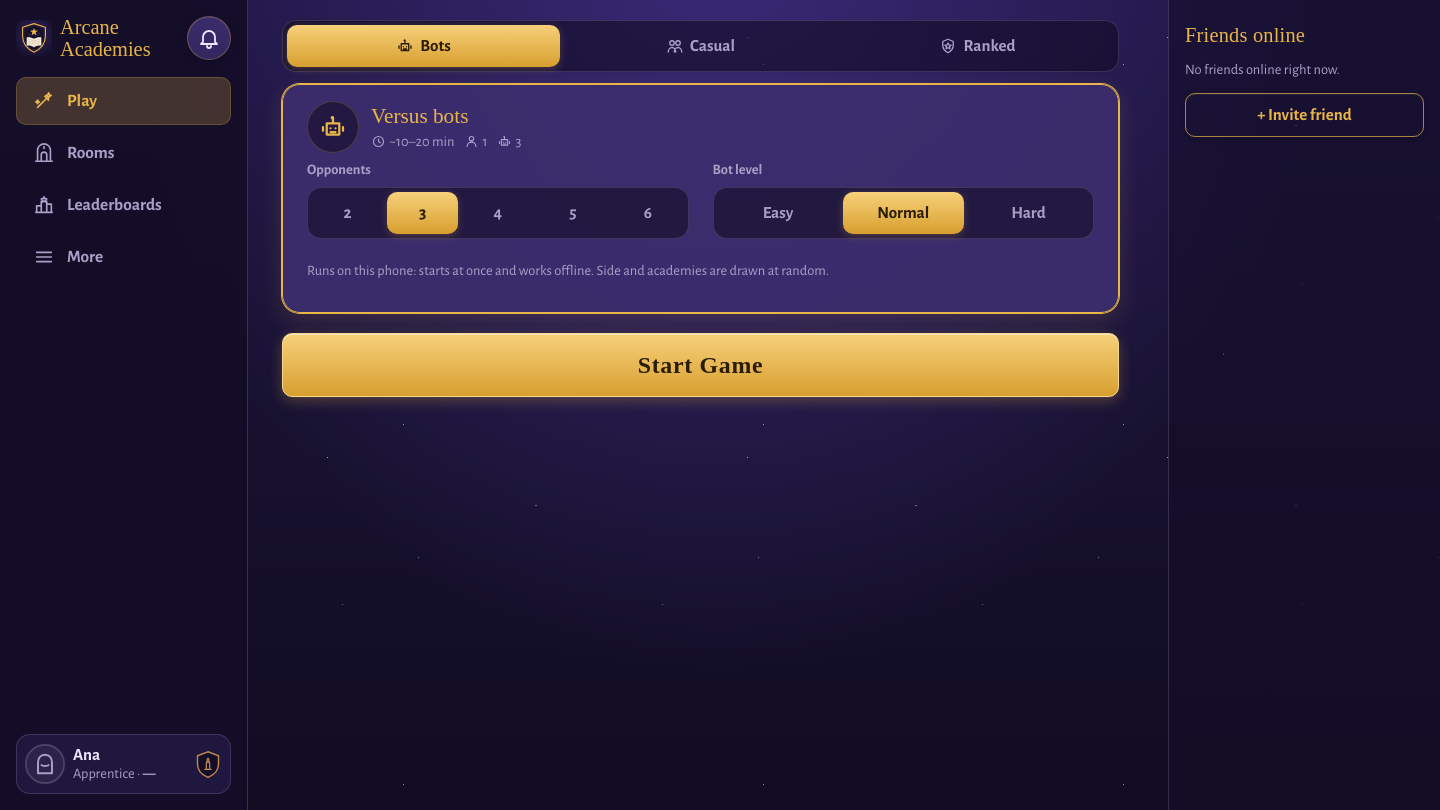
Scenario: notifications switch › explains that iPhone needs the Home Screen app
The image size is (1440, 810).
Click the button "More".
click(124, 257)  # box [16,233,231,281]
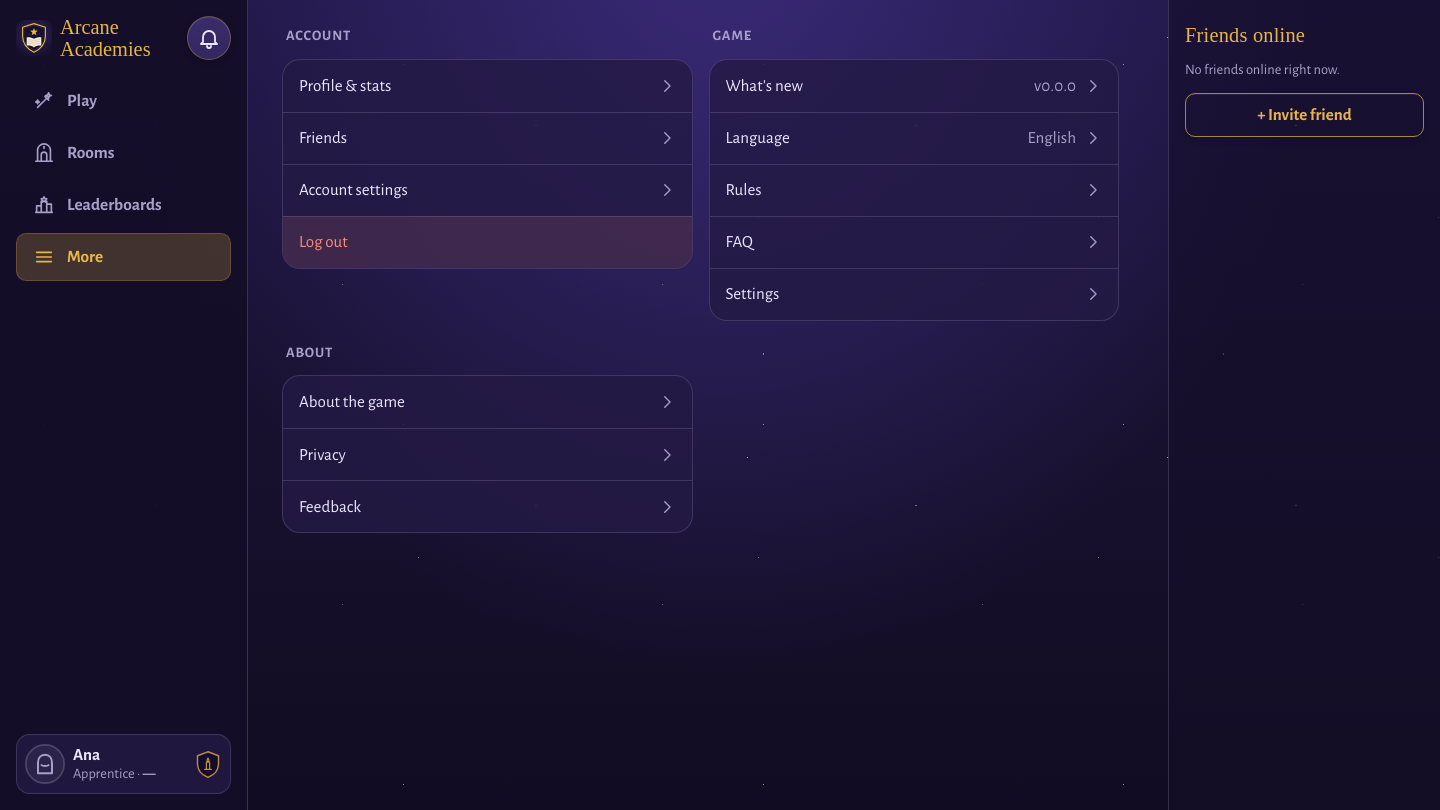
Click the button "Friends".
click(323, 138)  # box [283,112,692,164]
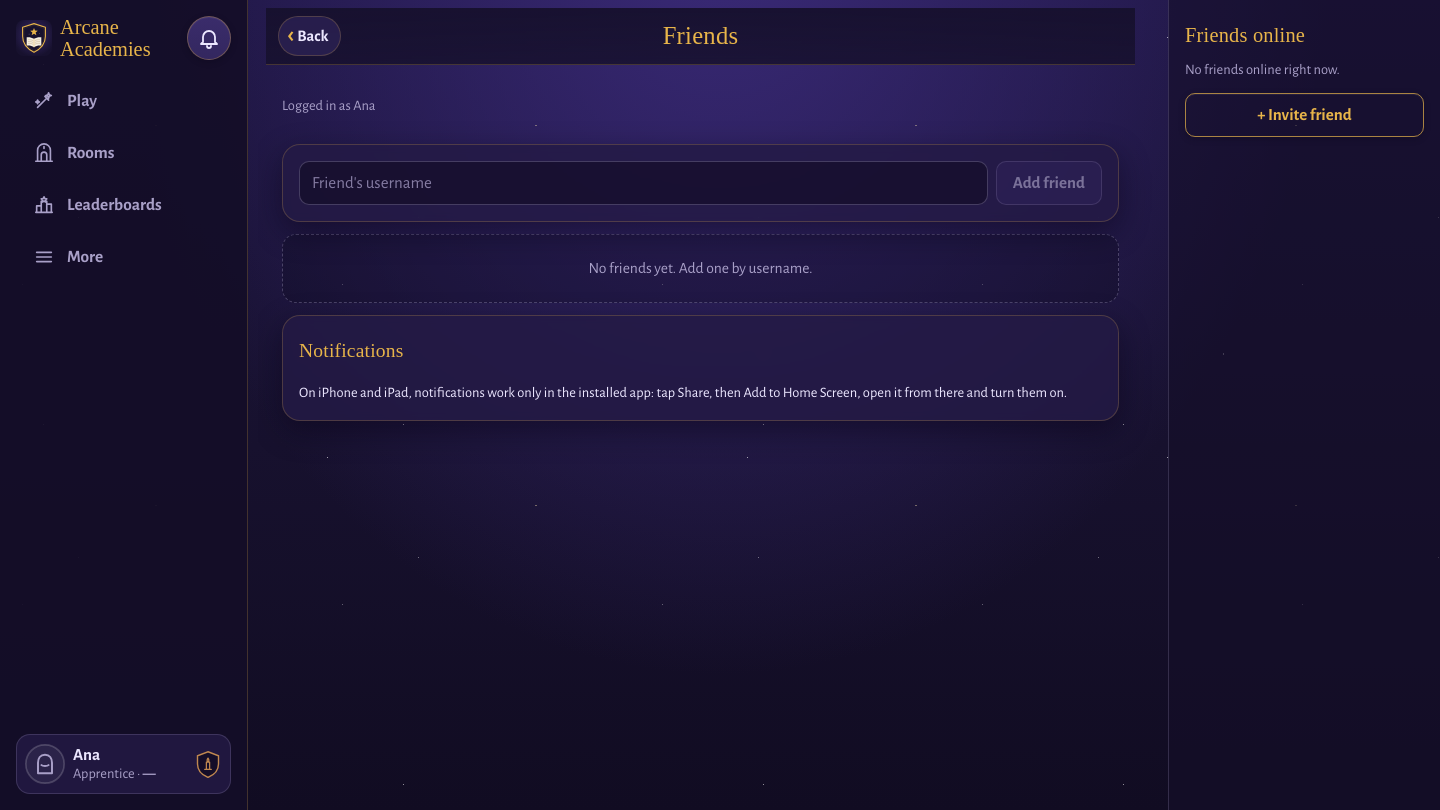
Result: the text "Add to Home Screen, open it" is shown at [299,385,1067,400]
